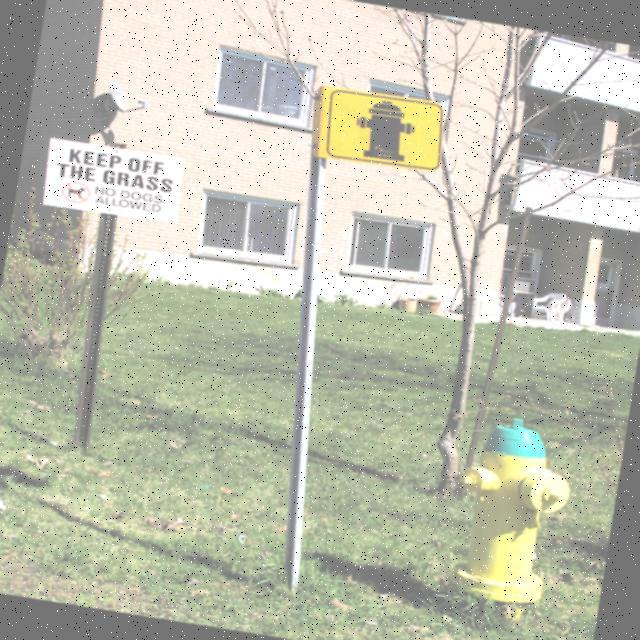fire_hydrant: (443, 409, 580, 609), (351, 95, 418, 163)
